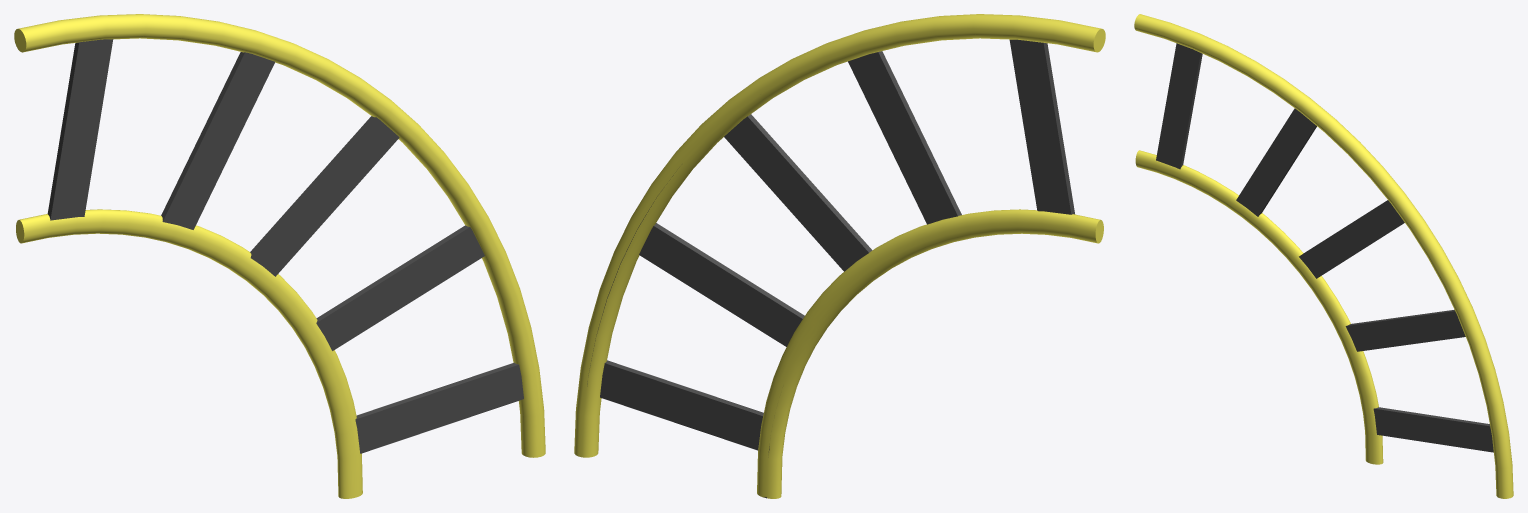
The model's file is coasterTrack.fbx.
3 renders of one model, left to right at view 1: azimuth 30°, elevation 25°; view 2: azimuth 150°, elevation 25°; view 3: azimuth 330°, elevation 25°, orthographic. The views are drawn at different scales.
Parts seen in each view (by area): view 1: Box004; view 2: Box004; view 3: Box004.
Boxes of the visible parts, x1,y1,x2,y2 form: Box004: [14, 14, 545, 498]; Box004: [574, 14, 1105, 498]; Box004: [1134, 14, 1513, 498].
Bounding box in the file's own units: 579 × 578 × 23.04.
Materials: 1 (1 with a texture image).
